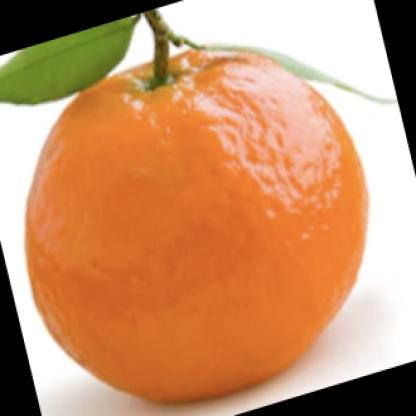fresh: (25, 50, 368, 403)
